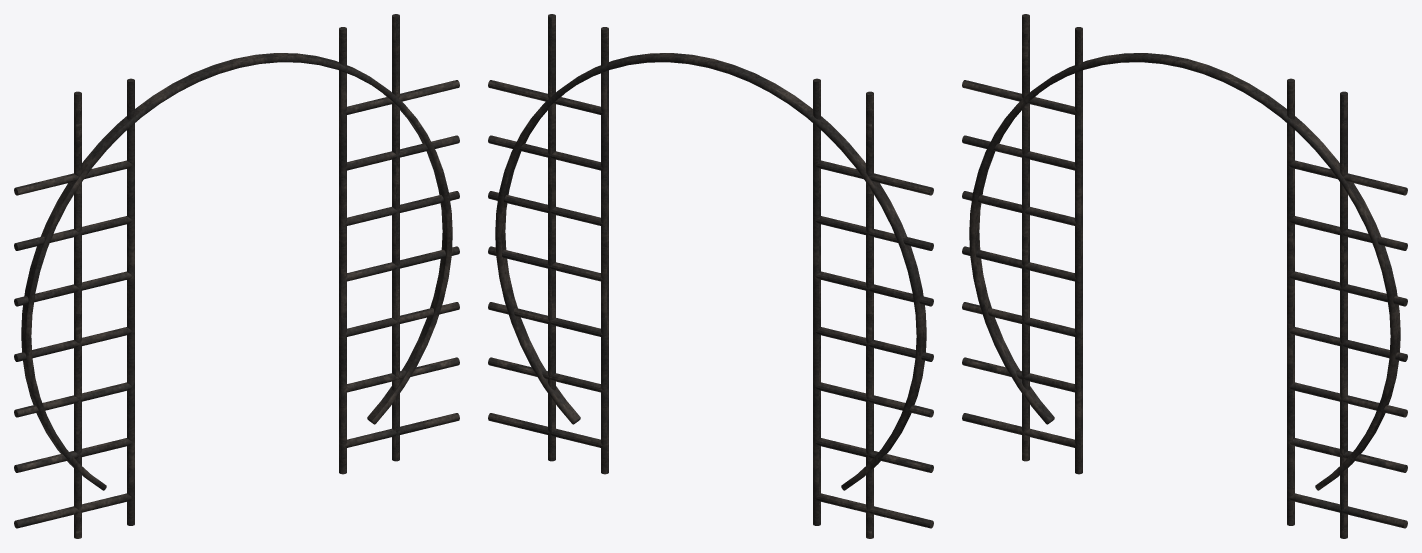
File: bars_metal_1.obj
The picture shows the model from 3 angles, left to right: view 1: azimuth 30°, elevation 25°; view 2: azimuth 150°, elevation 25°; view 3: azimuth 330°, elevation 25°; orthographic projection.
Visible parts, largest first — view 1: bars_metal_1; view 2: bars_metal_1; view 3: bars_metal_1.
Part boxes in pixels (x1,y1,x2,y2): bars_metal_1: [14, 14, 459, 538]; bars_metal_1: [488, 14, 933, 538]; bars_metal_1: [962, 14, 1407, 538].
Bounding box in the file's own units: 2.5 × 2.4 × 0.06.
